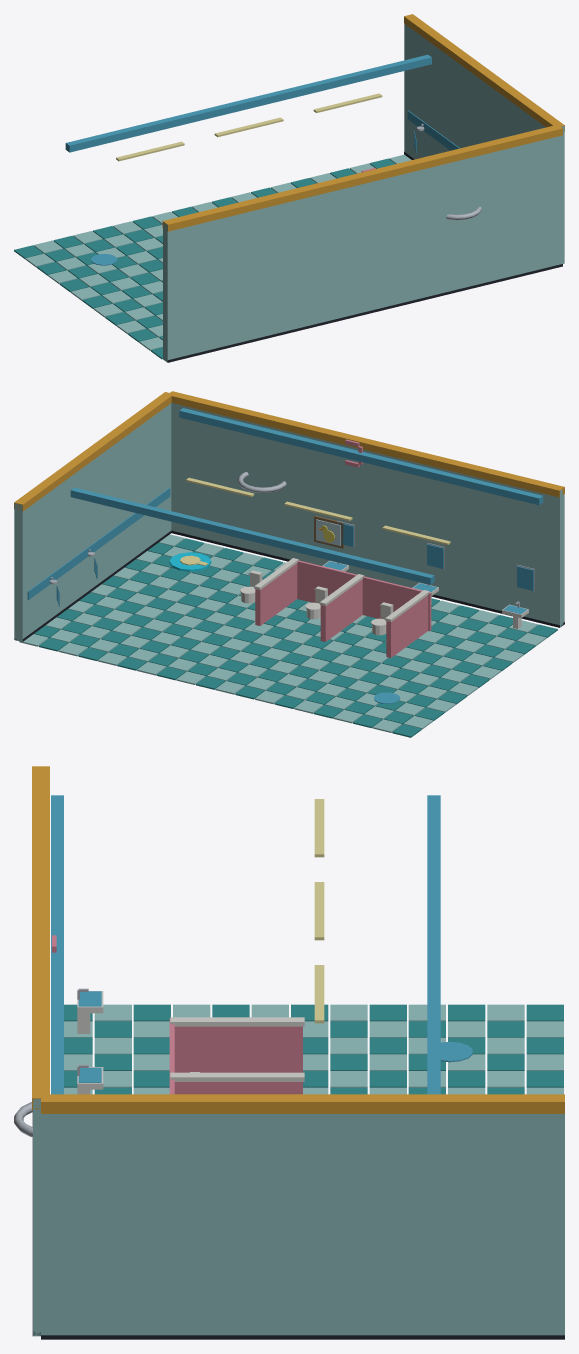
The model's file is bathrooms.glb.
3 views of the same model, one above another, from view 1: azimuth 30°, elevation 25°; view 2: azimuth 150°, elevation 25°; view 3: azimuth 270°, elevation 25° (orthographic). The views are drawn at different scales.
Visible parts, largest first — view 1: bathrooms; view 2: bathrooms; view 3: bathrooms.
Boxes of the visible parts, bbox=[...] form: bathrooms: bbox=[14, 14, 564, 362]; bathrooms: bbox=[14, 391, 564, 737]; bathrooms: bbox=[14, 766, 564, 1339].
Bounding box in the file's own units: 24.28 × 8.1 × 16.83.
